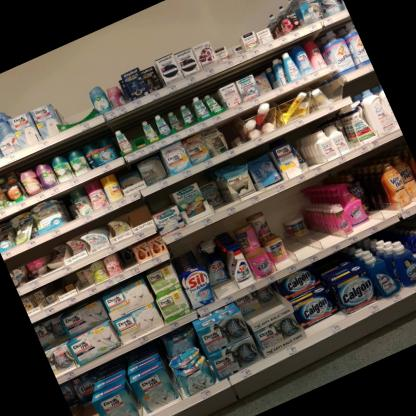empty_space: (278, 231, 330, 262), (59, 93, 97, 129)
